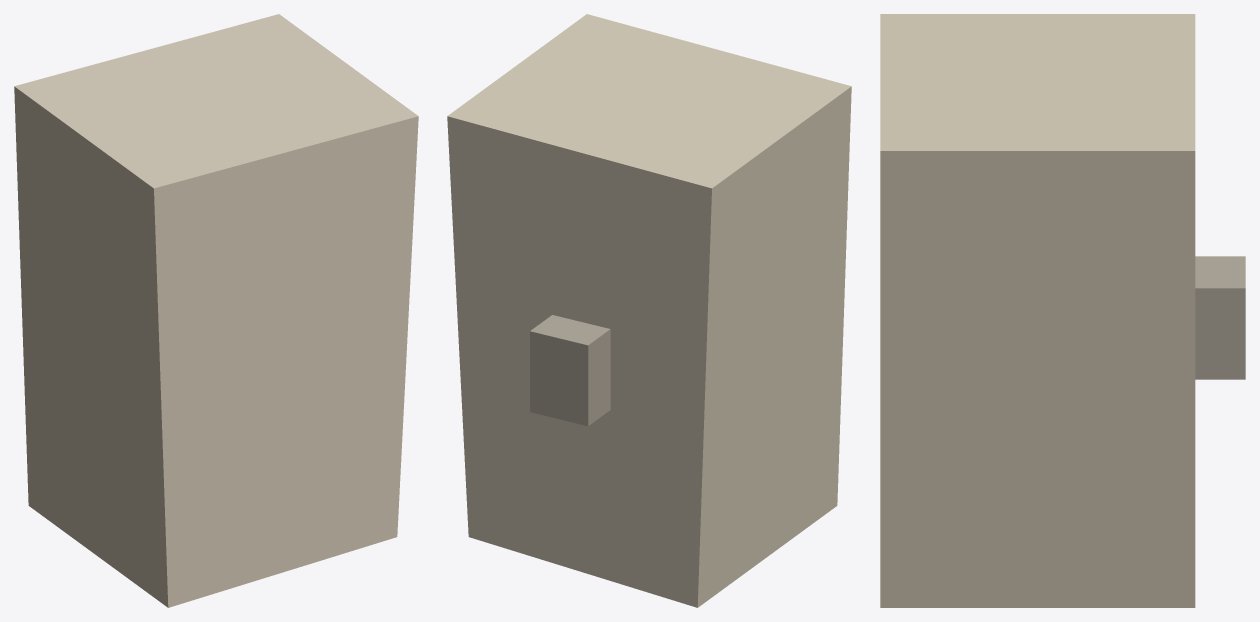
File: historic-palestine-14_28_3556_3222.glb
3 views of the same model, side by side, from view 1: azimuth 30°, elevation 25°; view 2: azimuth 150°, elevation 25°; view 3: azimuth 270°, elevation 25° (orthographic). The views are drawn at different scales.
Parts seen in each view (by area): view 1: Building_; view 2: Building_, Roof access hut; view 3: Building_, Roof access hut.
Part boxes in pixels (bbox=[...]): Building_: bbox=[14, 14, 418, 607]; Building_: bbox=[447, 14, 851, 607]; Roof access hut: bbox=[530, 315, 610, 426]; Building_: bbox=[880, 14, 1195, 607]; Roof access hut: bbox=[1195, 256, 1245, 379].
Bounding box in the file's own units: 8.21 × 12.76 × 8.7.
